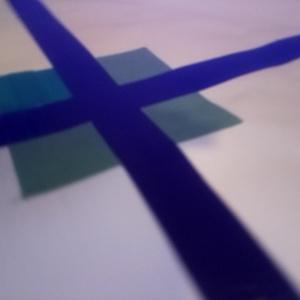bottom_left: (8, 112, 142, 199)
bottom_right: (107, 85, 242, 144)
top_left: (1, 68, 103, 121)
top_right: (73, 47, 173, 98)
